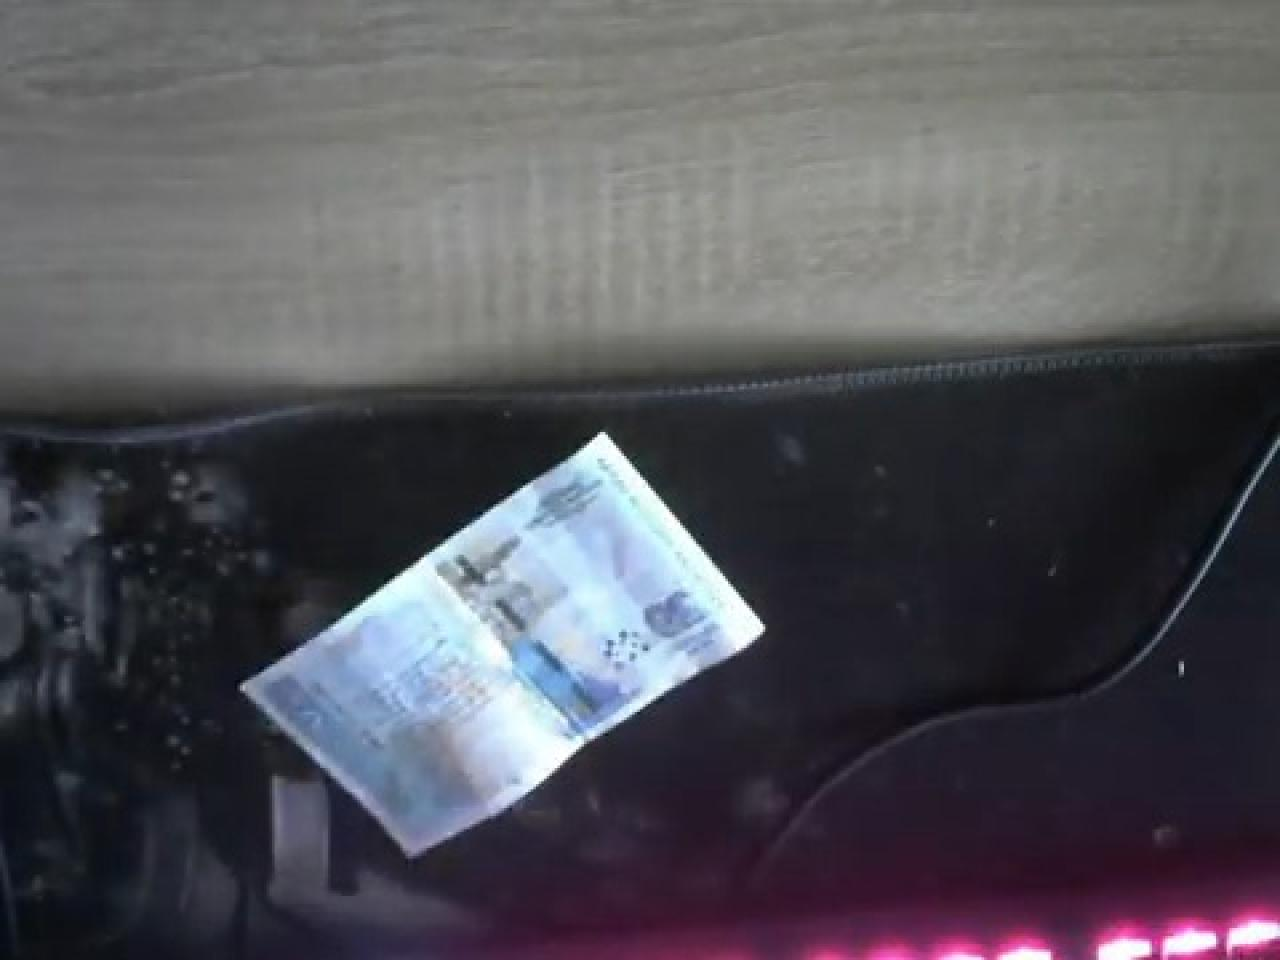20leva: (235, 430, 765, 864)
